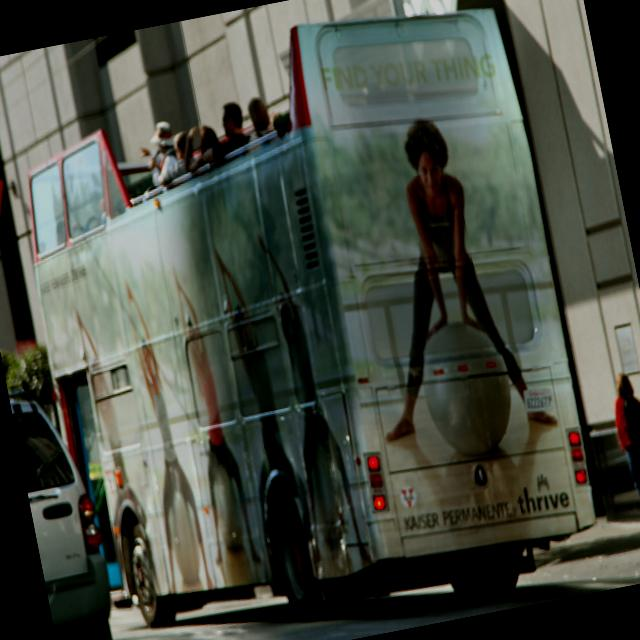Vehicle: (0, 0, 612, 640), (10, 390, 130, 640)
